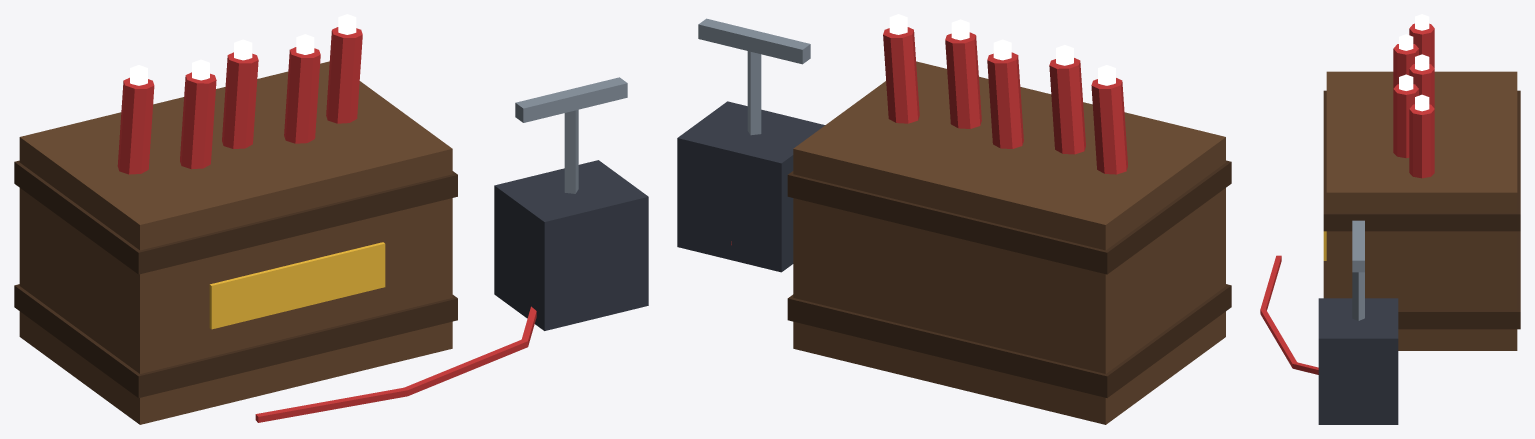
Rendered from Mine_PlasmaDynamite.fbx.
3 renders of one model, left to right at view 1: azimuth 30°, elevation 25°; view 2: azimuth 150°, elevation 25°; view 3: azimuth 270°, elevation 25°, orthographic. The views are drawn at different scales.
Visible parts, largest first — view 1: Mine_PlasmaDynamite_Body, Mine_PlasmaDynamite_Plunger; view 2: Mine_PlasmaDynamite_Body, Mine_PlasmaDynamite_Plunger; view 3: Mine_PlasmaDynamite_Body, Mine_PlasmaDynamite_Plunger.
Part boxes in pixels (x1=…): Mine_PlasmaDynamite_Body: x1=14, y1=14, x2=648, y2=424; Mine_PlasmaDynamite_Plunger: x1=515, y1=77, x2=627, y2=193; Mine_PlasmaDynamite_Body: x1=677, y1=14, x2=1231, y2=424; Mine_PlasmaDynamite_Plunger: x1=698, y1=18, x2=810, y2=135; Mine_PlasmaDynamite_Body: x1=1260, y1=14, x2=1520, y2=424; Mine_PlasmaDynamite_Plunger: x1=1352, y1=220, x2=1364, y2=320.
Size of the model in its own units: 1.46 by 0.83 by 0.8188.
